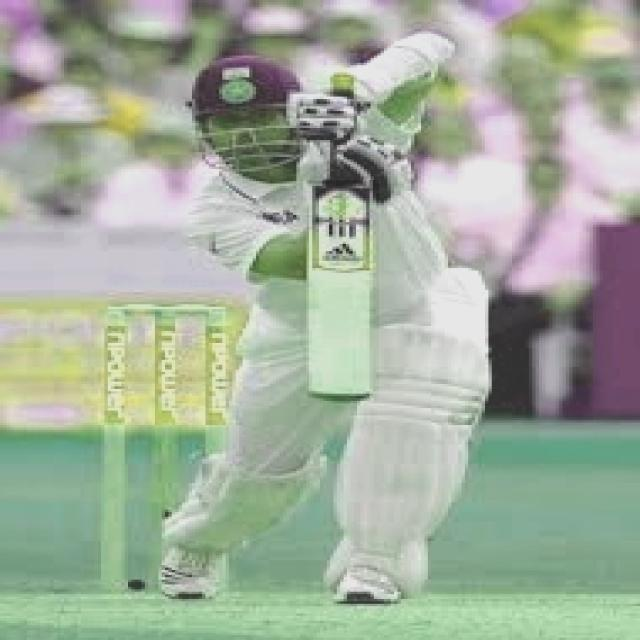bat: (305, 183, 372, 406)
toe: (305, 386, 371, 405)
